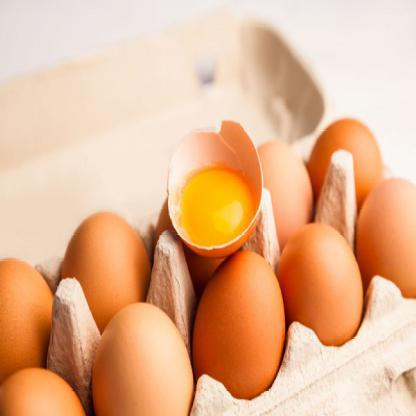egg: (193, 247, 296, 415), (274, 197, 370, 354), (57, 208, 156, 354), (91, 292, 202, 414), (304, 92, 386, 244), (340, 138, 416, 292), (239, 132, 320, 253), (0, 249, 72, 381)
